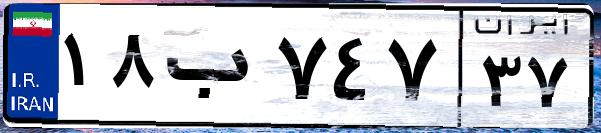1: (57, 26, 110, 100)
3: (475, 38, 525, 113)
4: (330, 28, 385, 110)
7: (270, 28, 330, 110), (385, 28, 445, 110), (525, 38, 570, 115)
8: (110, 28, 158, 98)
ب: (158, 20, 270, 120)
